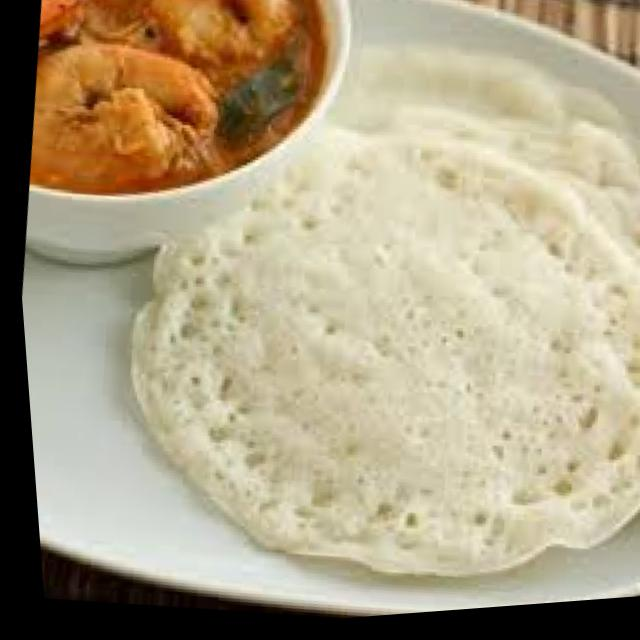AAPAM: (125, 42, 640, 577)
